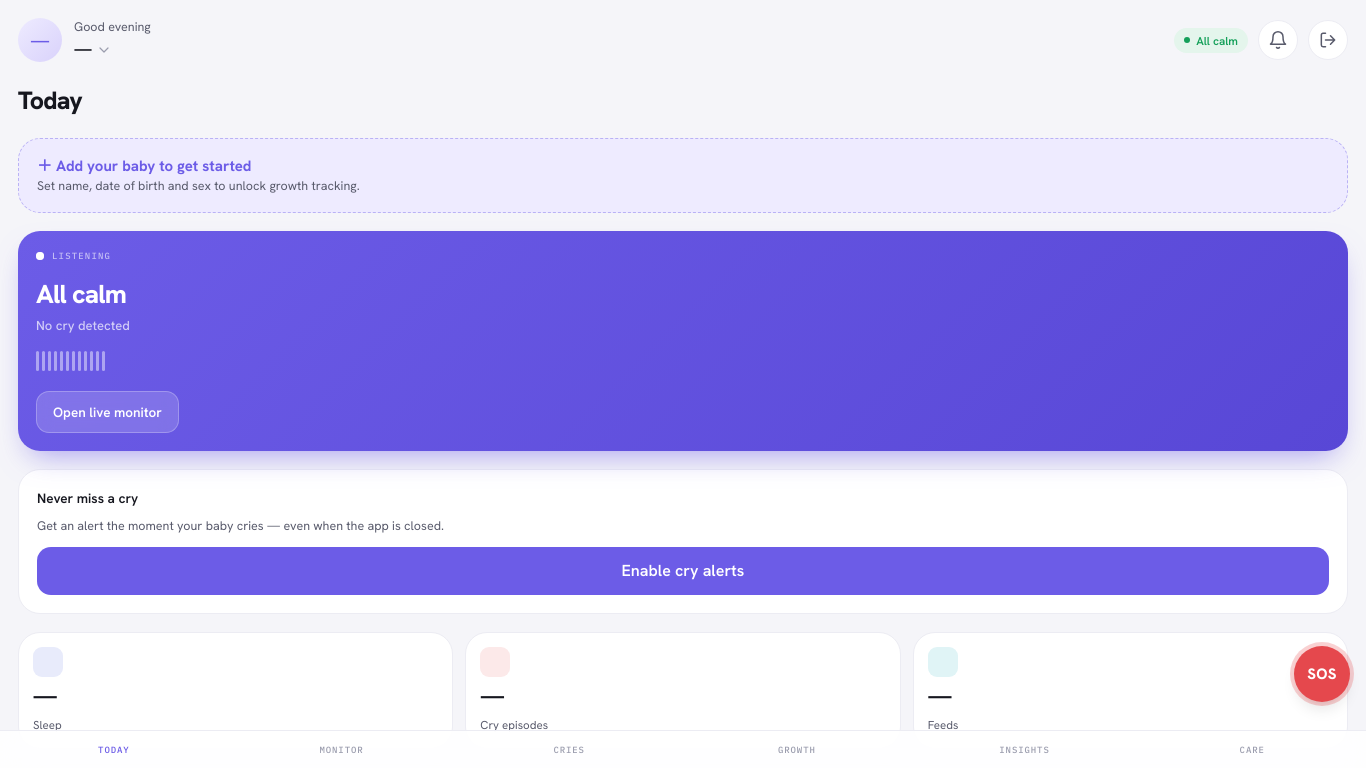
Test: AppShell › the SOS button is always present and opens the Emergency screen
Step 1. Click the button with aria-label "emergency sos" → x=1322, y=674, box [1294, 646, 1350, 702]
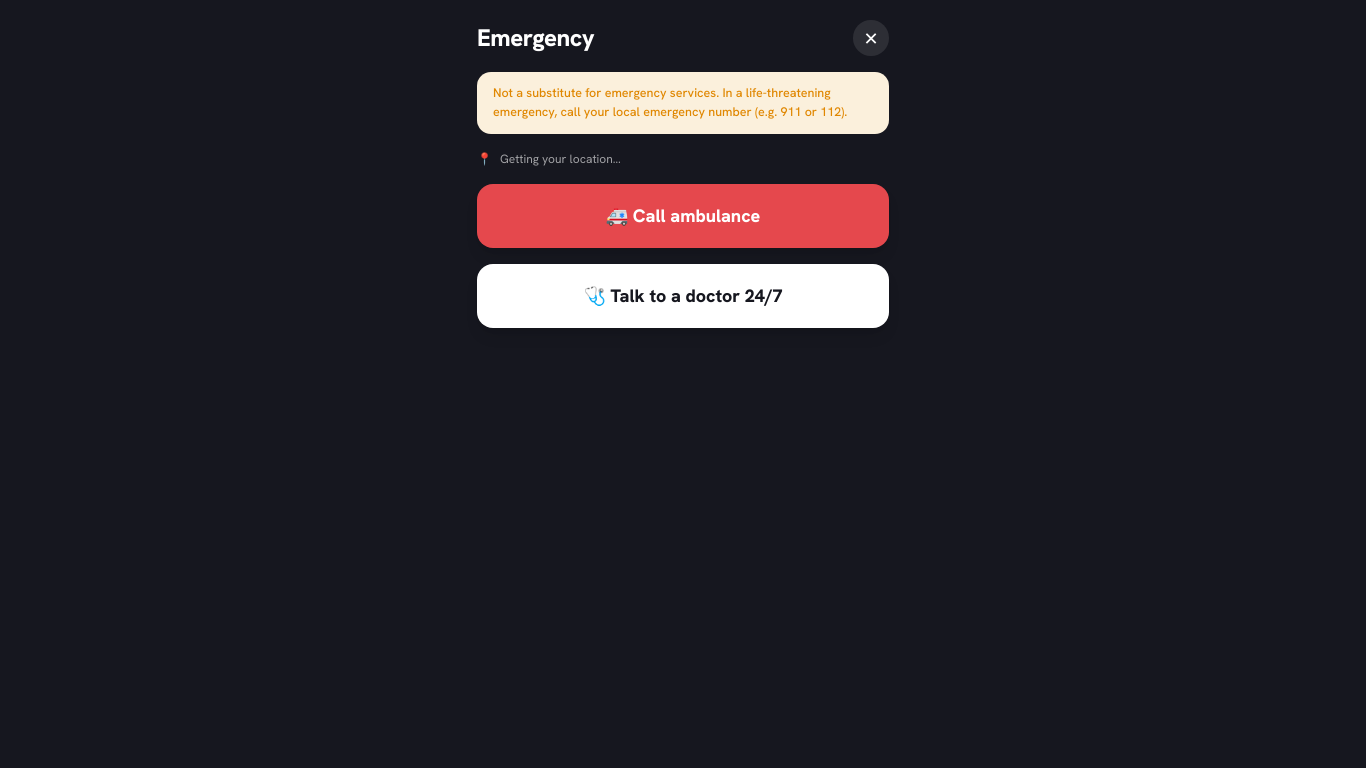
expect the dialog "Emergency" is shown: met
expect the text "Not a substitute for emergency services" is shown: met, box [493, 84, 847, 120]
